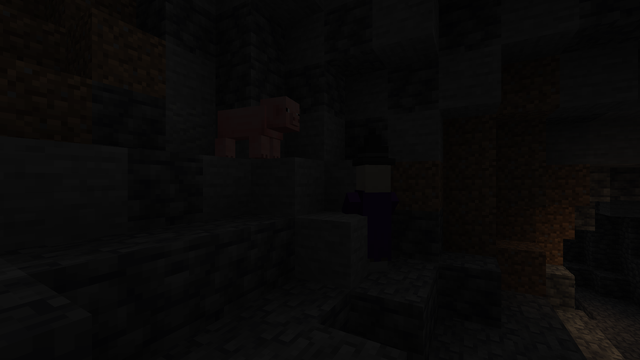cochons: (214, 101, 284, 161)
sorcieres: (350, 159, 392, 277)
